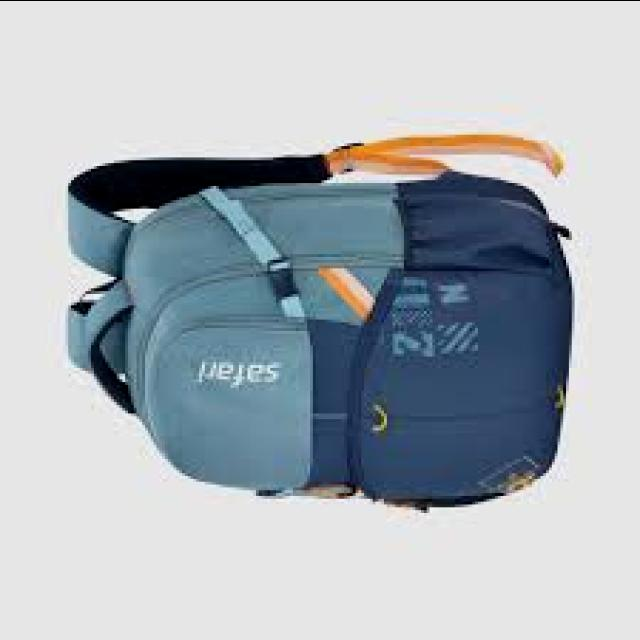backpack: (64, 135, 573, 513)
